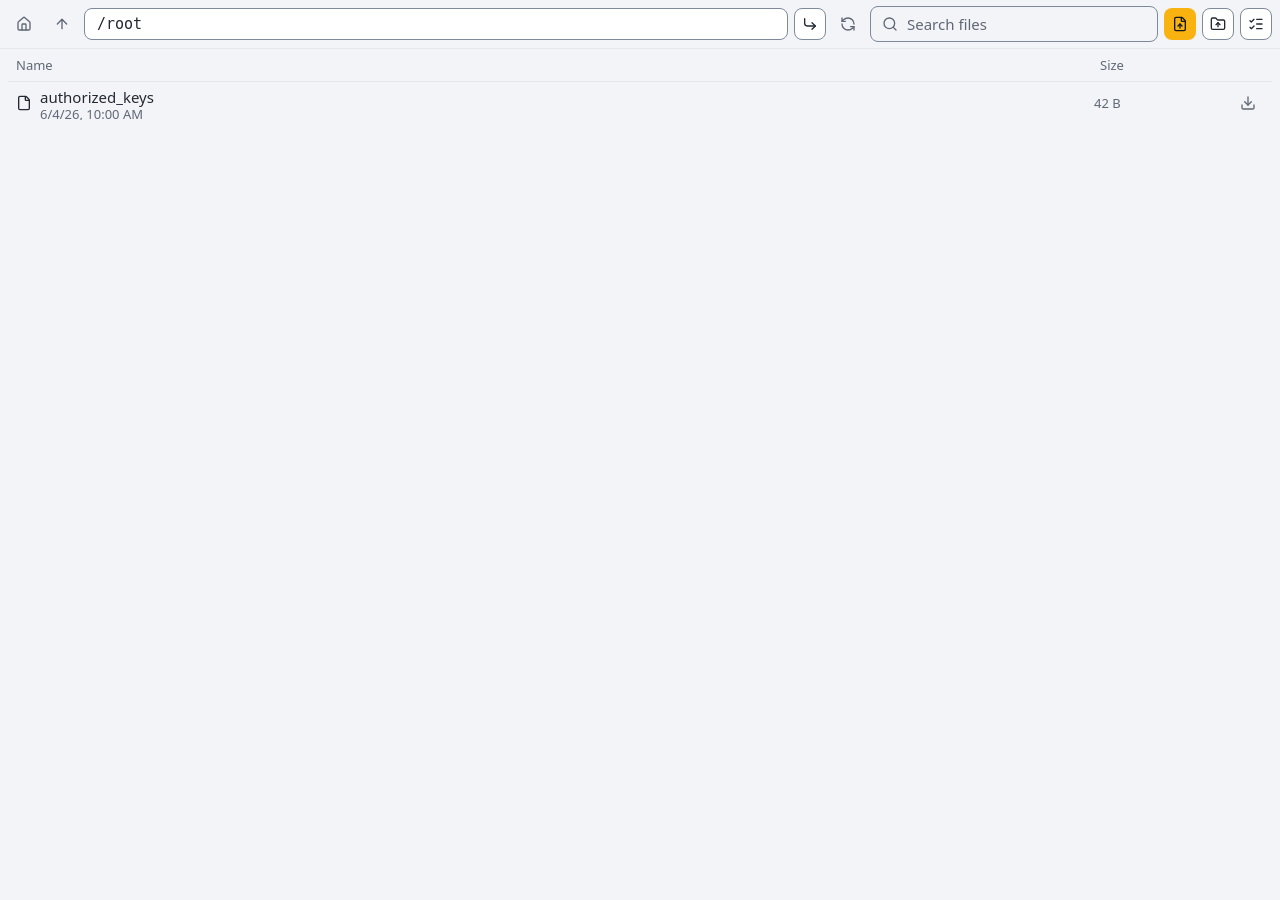
Test: SshFileBrowserPanel › selects a file and renders compact details
The width and height of the screenshot is (1280, 900).
Click the text "authorized_keys" at (97, 97), box [40,86,154,108]
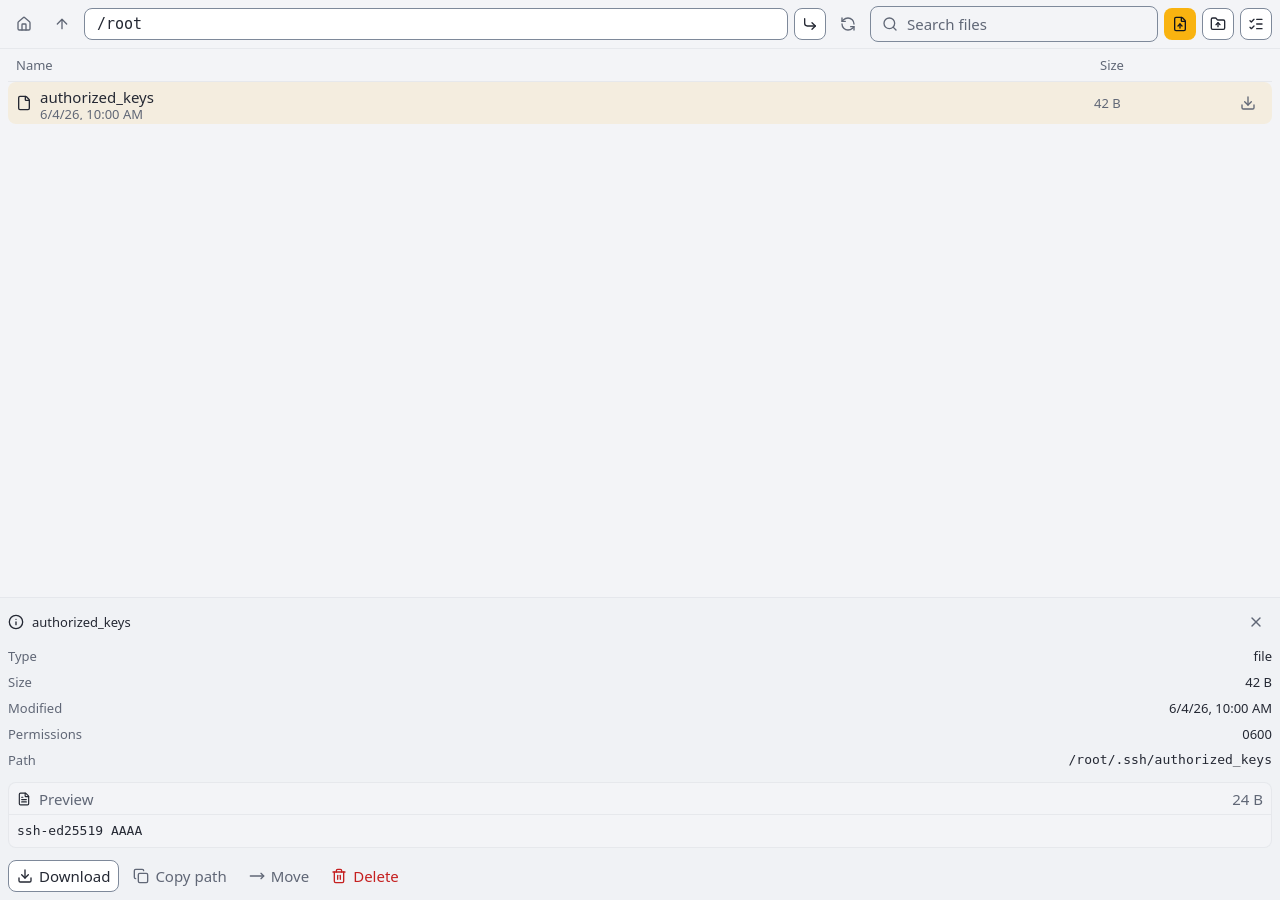
Now the element named "Details" shows "/root/.ssh/authorized_keys", box [1068,752,1272,767]
Now the element named "Details" shows "0600", box [1242,725,1272,743]
Now the element named "Details" shows "42 B", box [1245,673,1272,691]
